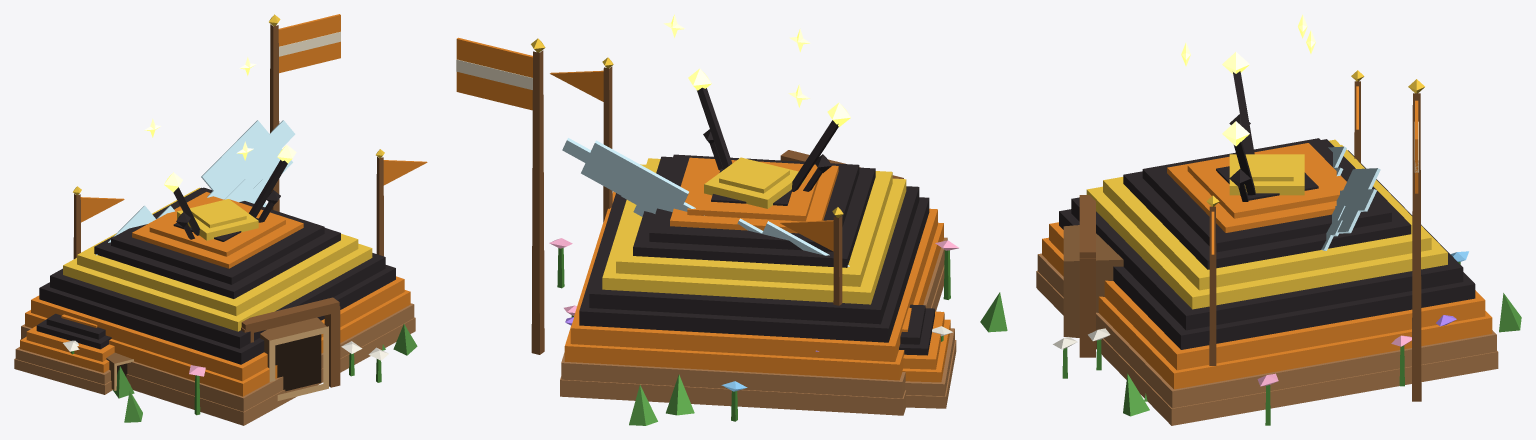
The model's file is bumblebee-burrow-blocky.glb.
The picture shows the model from 3 angles, left to right: view 1: azimuth 30°, elevation 25°; view 2: azimuth 150°, elevation 25°; view 3: azimuth 270°, elevation 25°; orthographic projection. The views are drawn at different scales.
Visible parts, largest first — view 1: lv3, lv2; view 2: lv3, lv2; view 3: lv3, lv2.
Part boxes in pixels (box(x1,y1,x2,y2)): lv3: box(14, 14, 427, 425); lv2: box(73, 179, 385, 398); lv3: box(456, 14, 1007, 425); lv2: box(564, 129, 843, 415); lv3: box(1036, 14, 1521, 425); lv2: box(1088, 70, 1411, 401).
Bounding box in the file's own units: 1.96 × 1.35 × 1.79.
